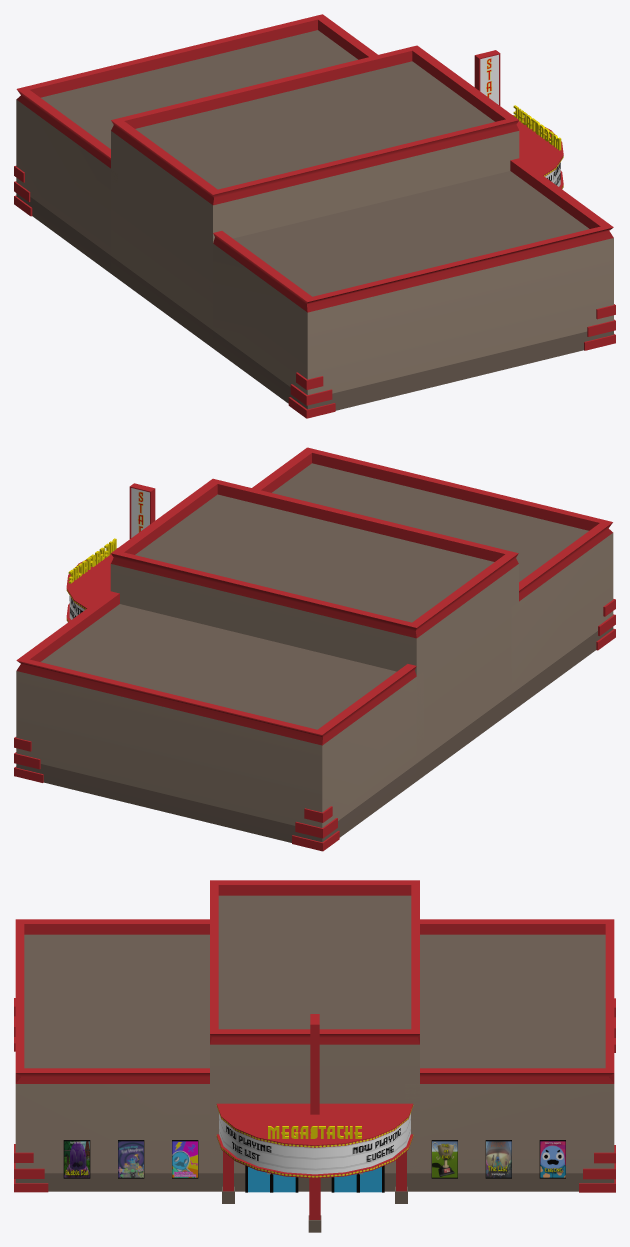
Rendered from MovieTheater.fbx.
3 views of the same model, one above another, from view 1: azimuth 30°, elevation 25°; view 2: azimuth 150°, elevation 25°; view 3: azimuth 270°, elevation 25° (orthographic). The views are drawn at different scales.
Visible parts, largest first — view 1: MovieTheater; view 2: MovieTheater; view 3: MovieTheater.
Part boxes in pixels (bbox=[...]): MovieTheater: bbox=[14, 14, 615, 418]; MovieTheater: bbox=[14, 447, 615, 851]; MovieTheater: bbox=[14, 880, 615, 1232].
Bounding box in the file's own units: 42.92 × 18.59 × 55.66.
